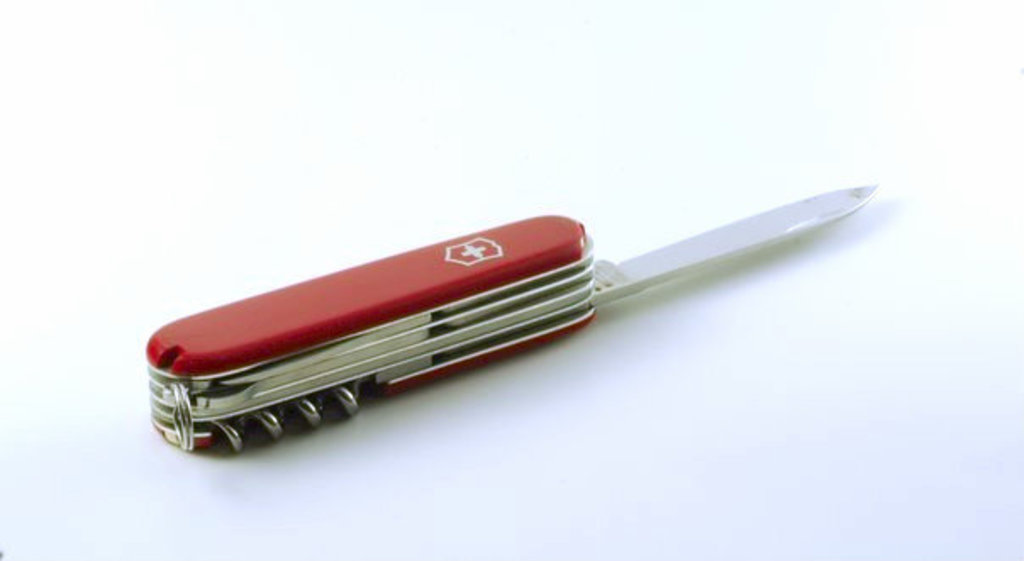knife: (145, 183, 881, 452)
